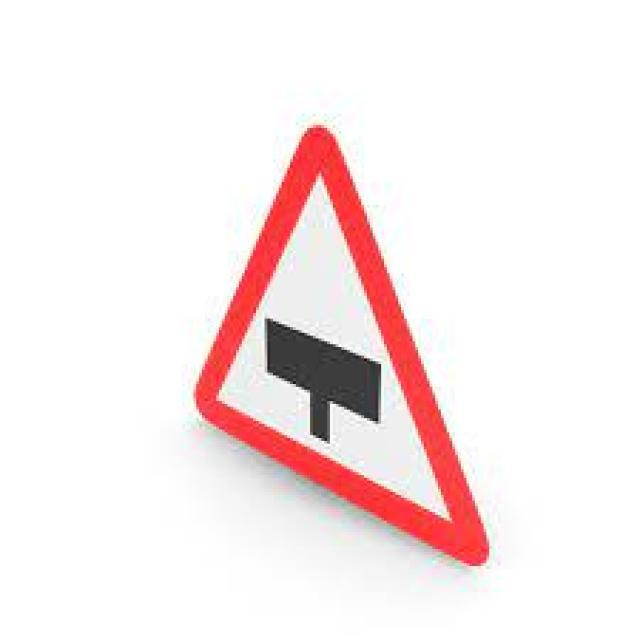t intersection: (186, 114, 504, 580)
